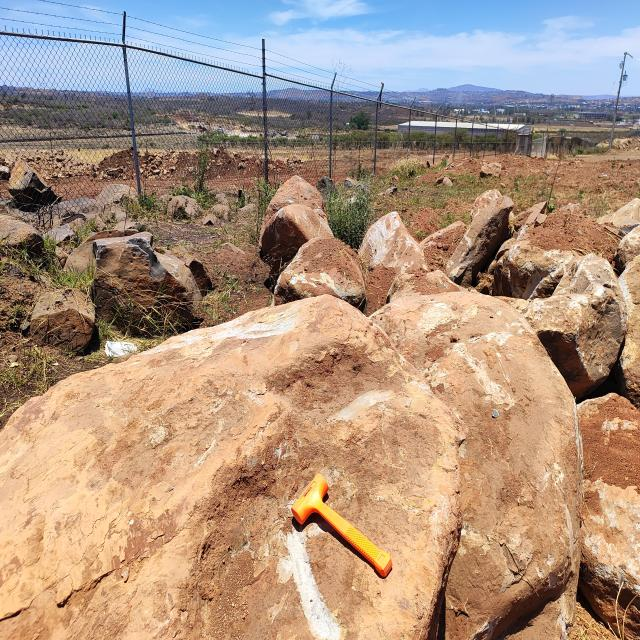Orange_hammer: (290, 472, 393, 579)
